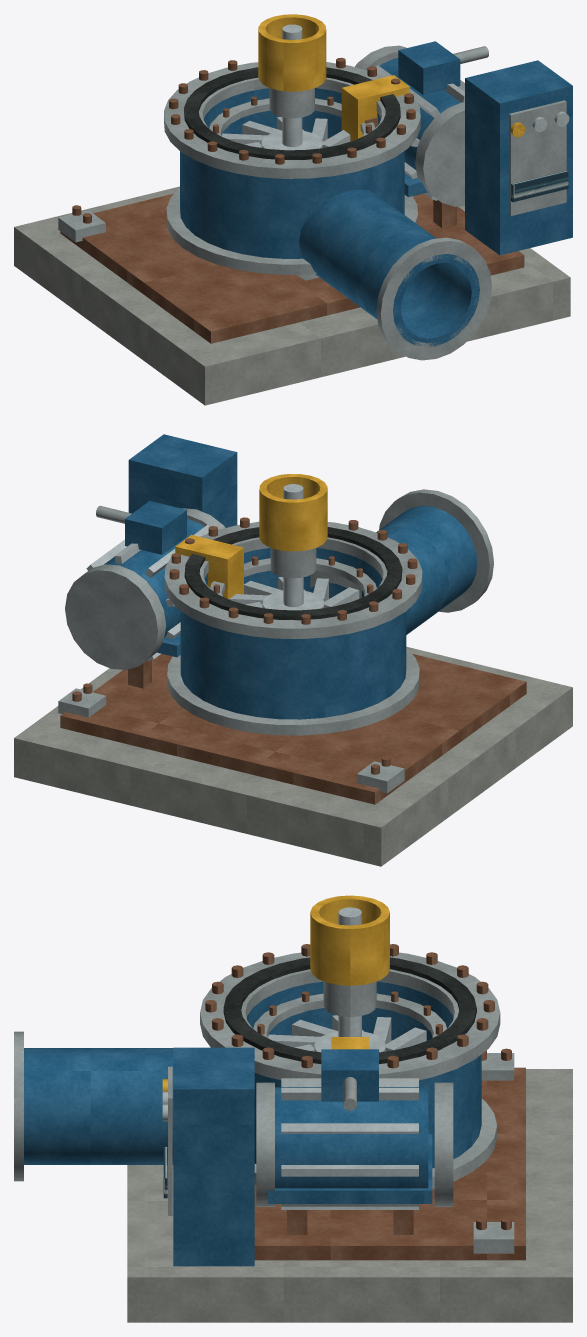
File: PZ_MicroHydro_Turbine_Standalone.glb
The picture shows the model from 3 angles, top to bottom: view 1: azimuth 30°, elevation 25°; view 2: azimuth 150°, elevation 25°; view 3: azimuth 270°, elevation 25°; orthographic projection. The views are drawn at different scales.
Visible parts, largest first — view 1: Turbine_EquipmentFoundation_NODE, Turbine_Skid_Deck_NODE, DraftTube_Discharge_Pipe_NODE, Turbine_Casing_Annulus_NODE, Turbine_ControlCabinet_NODE, Turbine_Casing_UpperFlange_NODE, DraftTube_OutletFlange_NODE, Turbine_Shaft_Guard_NODE, ControlCabinet_FrontPanel_NODE, Turbine_Inspection_Gasket_NODE, Generator_EndBell_Back_NODE, Turbine_Casing_LowerFlange_NODE (+11 smaller); view 2: Turbine_EquipmentFoundation_NODE, Turbine_Skid_Deck_NODE, Turbine_Casing_Annulus_NODE, Turbine_Casing_UpperFlange_NODE, Generator_EndBell_Front_NODE, Turbine_ControlCabinet_NODE, DraftTube_Discharge_Pipe_NODE, Turbine_Casing_LowerFlange_NODE, Turbine_Shaft_Guard_NODE, Turbine_Inspection_Gasket_NODE, DraftTube_OutletFlange_NODE, Generator_JunctionBox_NODE (+8 smaller); view 3: Turbine_EquipmentFoundation_NODE, Turbine_Skid_Deck_NODE, Turbine_ControlCabinet_NODE, DraftTube_Discharge_Pipe_NODE, Generator_Main_Casing_NODE, Turbine_Casing_UpperFlange_NODE, Turbine_Casing_Annulus_NODE, Turbine_Shaft_Guard_NODE, Turbine_Inspection_Gasket_NODE, Generator_Stand_Deck_NODE, Generator_JunctionBox_NODE, Generator_EndBell_Front_NODE (+16 smaller).
Boxes of the visible parts, x1,y1,x2,y2 form: Turbine_EquipmentFoundation_NODE: (14, 186, 570, 405); Turbine_Skid_Deck_NODE: (60, 193, 524, 343); DraftTube_Discharge_Pipe_NODE: (299, 189, 479, 346); Turbine_Casing_Annulus_NODE: (180, 88, 404, 258); Turbine_ControlCabinet_NODE: (465, 60, 572, 255); Turbine_Casing_UpperFlange_NODE: (164, 62, 420, 178); DraftTube_OutletFlange_NODE: (376, 237, 491, 360); Turbine_Shaft_Guard_NODE: (258, 14, 326, 91); ControlCabinet_FrontPanel_NODE: (509, 100, 566, 215); Turbine_Inspection_Gasket_NODE: (184, 67, 400, 159); Generator_EndBell_Back_NODE: (415, 102, 464, 206); Turbine_Casing_LowerFlange_NODE: (166, 188, 417, 274); Turbine_EquipmentFoundation_NODE: (14, 646, 572, 866); Turbine_Skid_Deck_NODE: (60, 653, 526, 804); Turbine_Casing_Annulus_NODE: (180, 547, 406, 719); Turbine_Casing_UpperFlange_NODE: (164, 521, 422, 638); Generator_EndBell_Front_NODE: (65, 564, 166, 669); Turbine_ControlCabinet_NODE: (128, 434, 237, 527); DraftTube_Discharge_Pipe_NODE: (329, 505, 477, 634); Turbine_Casing_LowerFlange_NODE: (167, 648, 419, 735); Turbine_Shaft_Guard_NODE: (259, 474, 327, 551); Turbine_Inspection_Gasket_NODE: (184, 527, 402, 620); DraftTube_OutletFlange_NODE: (379, 489, 493, 612); Generator_JunctionBox_NODE: (125, 501, 186, 554); Turbine_EquipmentFoundation_NODE: (127, 1069, 572, 1322); Turbine_Skid_Deck_NODE: (254, 1067, 525, 1260); Turbine_ControlCabinet_NODE: (173, 1047, 254, 1266); DraftTube_Discharge_Pipe_NODE: (24, 1048, 173, 1164); Generator_Main_Casing_NODE: (275, 1087, 428, 1188); Turbine_Casing_UpperFlange_NODE: (200, 952, 500, 1080); Turbine_Casing_Annulus_NODE: (247, 981, 481, 1168); Turbine_Shaft_Guard_NODE: (310, 895, 389, 985); Turbine_Inspection_Gasket_NODE: (223, 957, 476, 1063); Generator_Stand_Deck_NODE: (268, 1134, 432, 1203); Generator_JunctionBox_NODE: (321, 1049, 378, 1101); Generator_EndBell_Front_NODE: (434, 1082, 453, 1206).
Bounding box in the file's own units: 3.34 × 2.16 × 3.57.
Materials: 8 (8 with a texture image).
